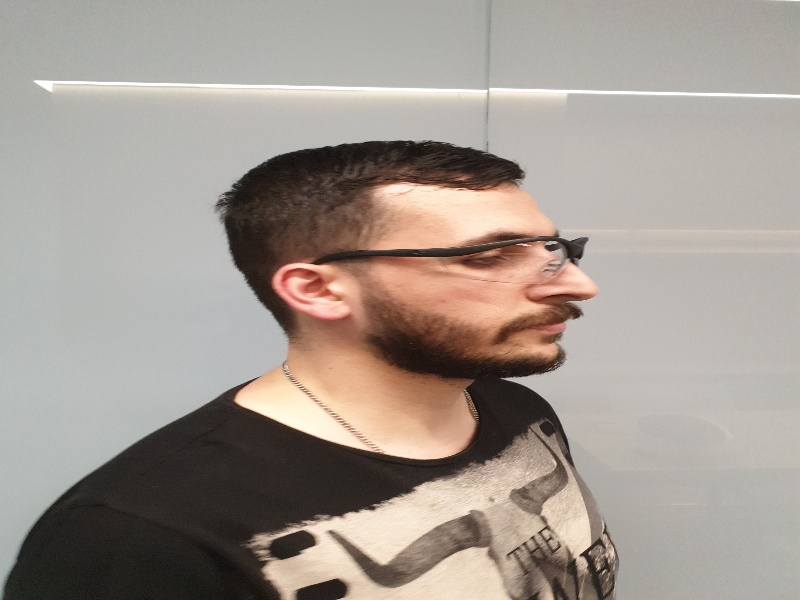Gozluk: (309, 235, 592, 283)
